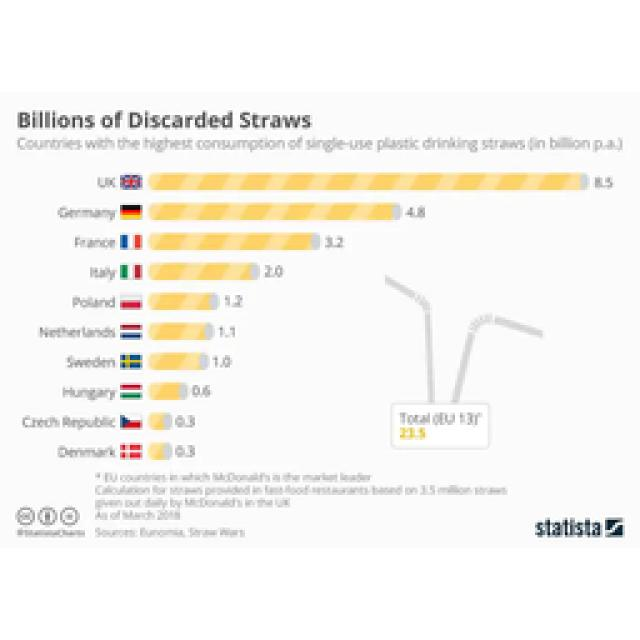plastic: (125, 168, 590, 460), (448, 310, 542, 402), (380, 270, 435, 402)
